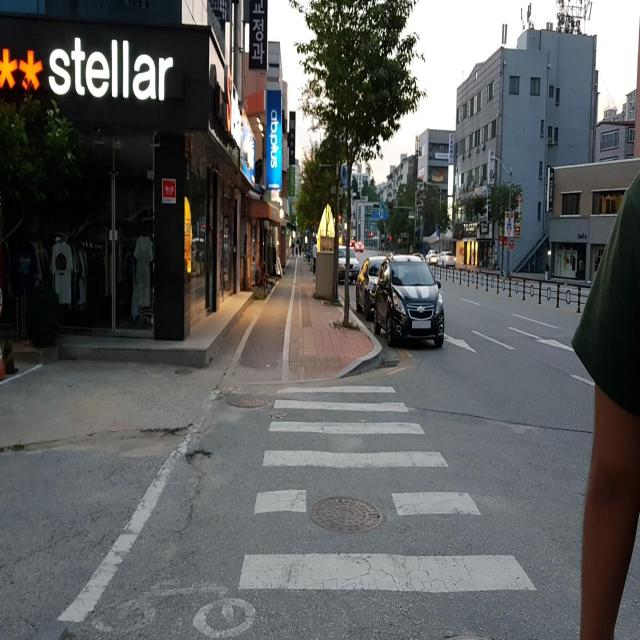횡단보도: (235, 381, 540, 596)
